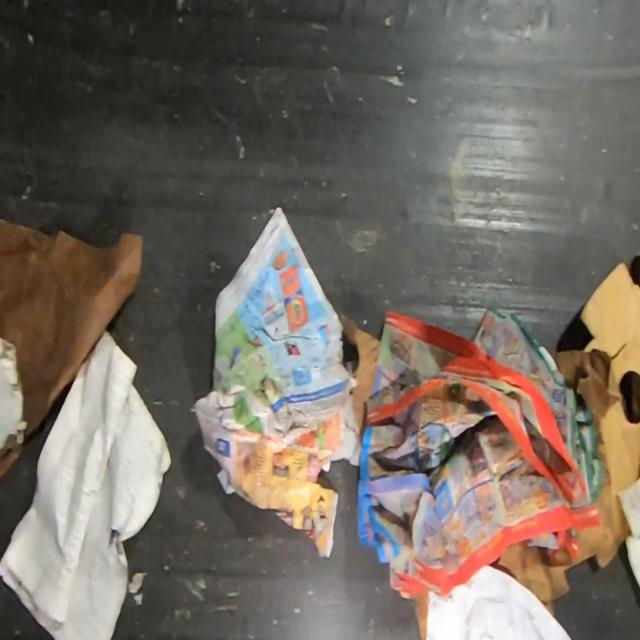cardboard: (549, 262, 640, 497), (496, 468, 631, 617), (337, 313, 380, 404)
